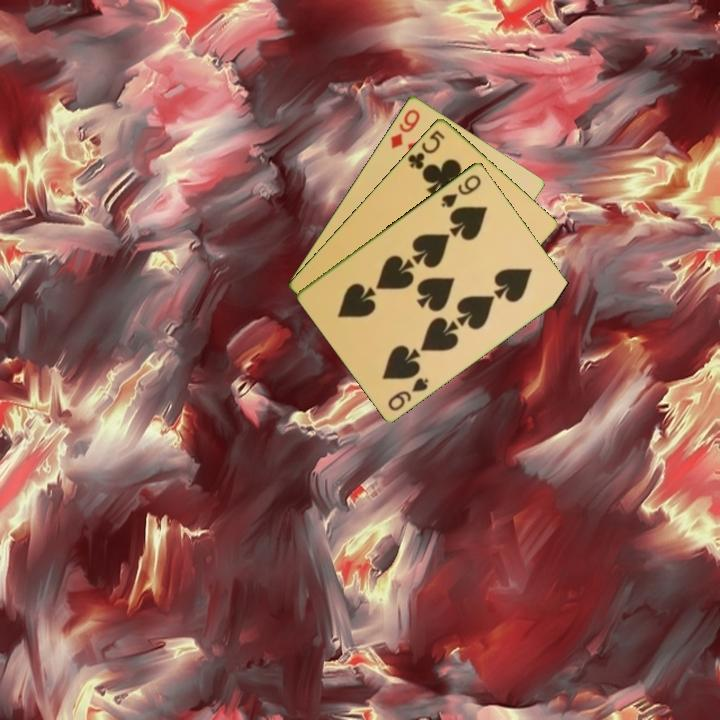5c: (404, 126, 448, 172)
9d: (387, 105, 423, 151)
9s: (384, 373, 432, 414), (437, 170, 484, 210)
